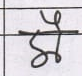ai_matra: (39, 9, 66, 32)
